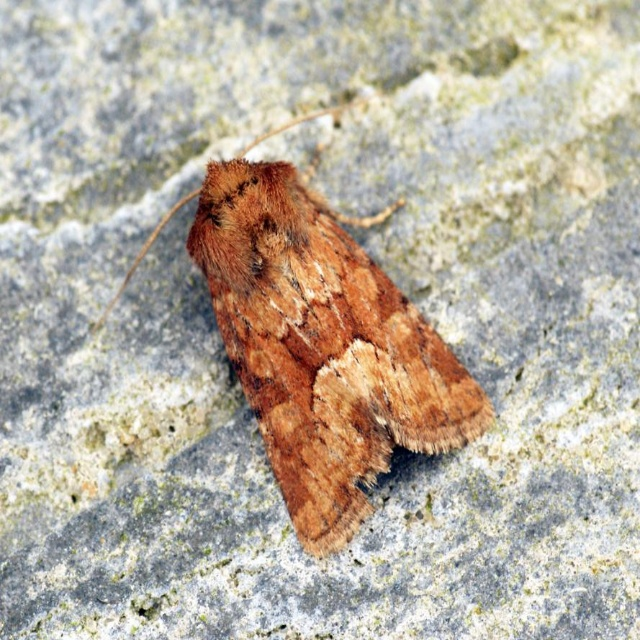Moths and butterflies: (91, 85, 498, 560)
